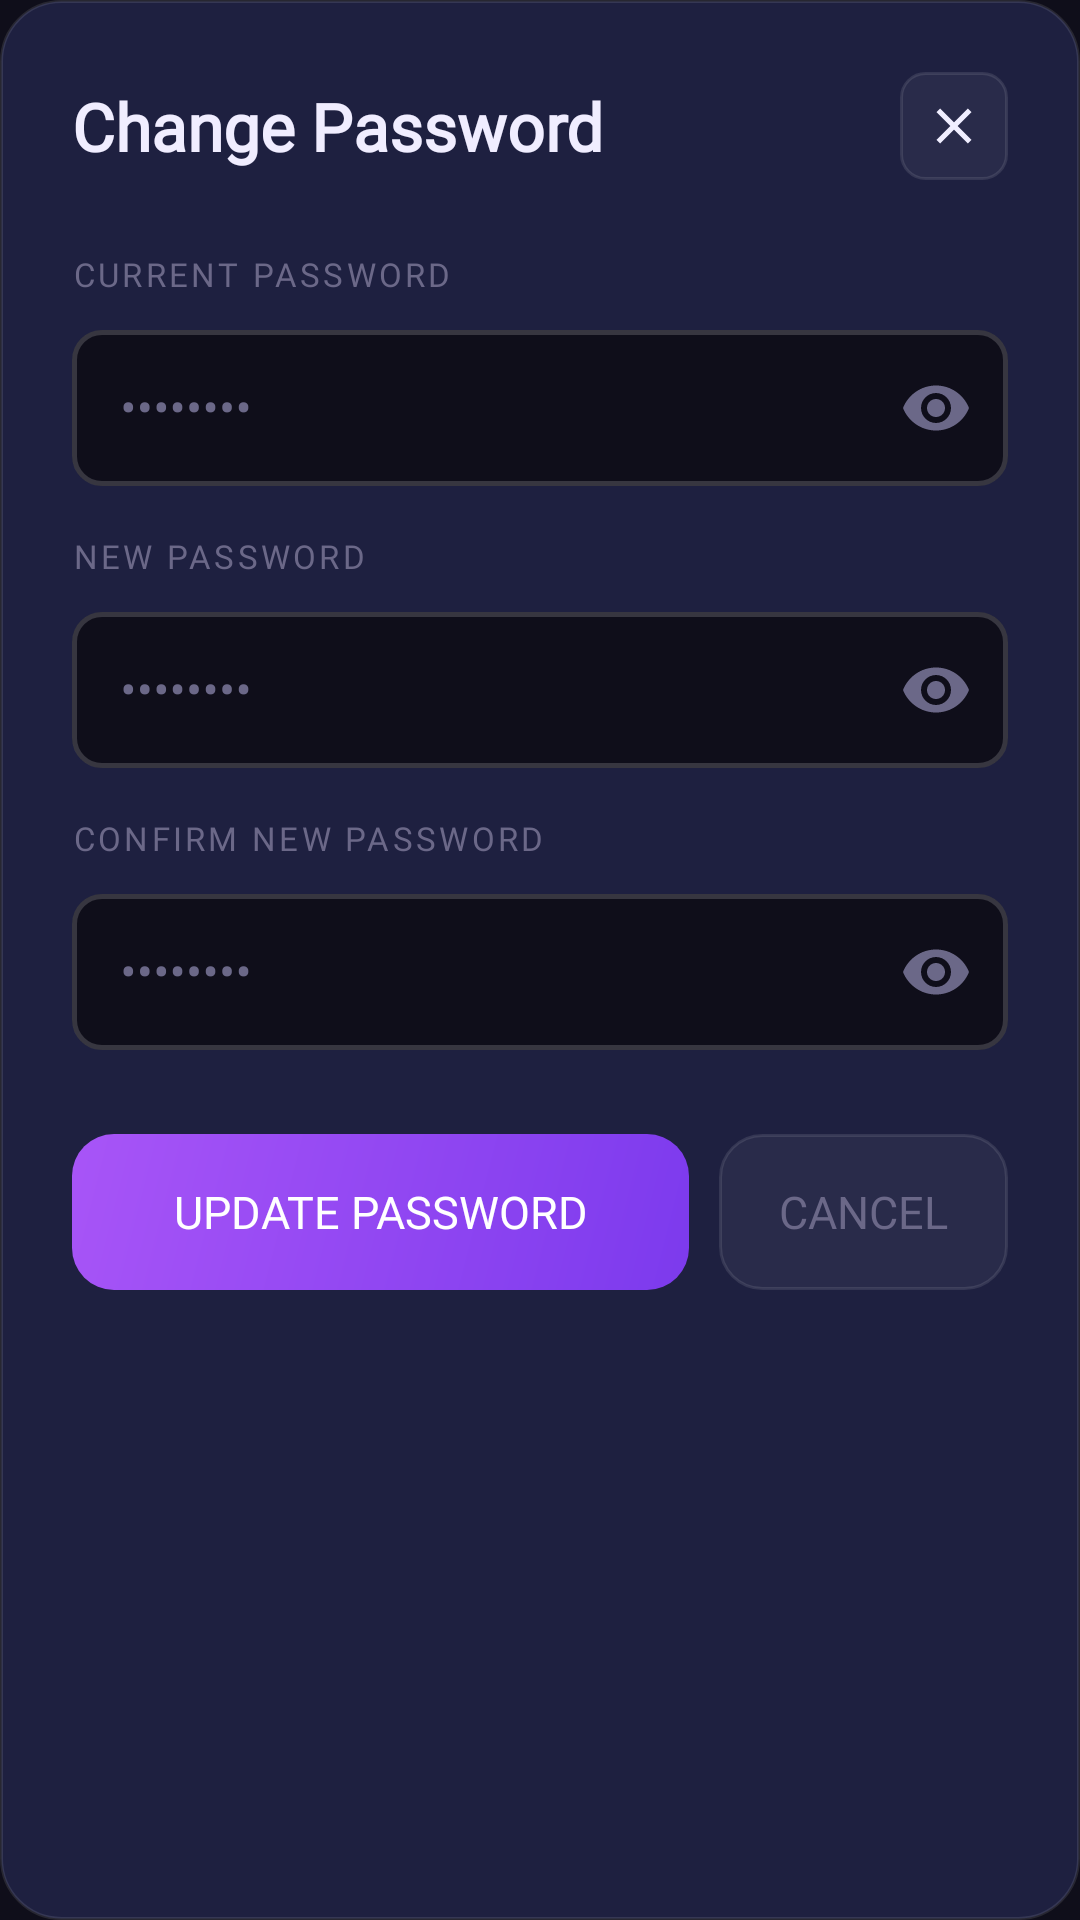

Icon bounding boxes for this 1080px×1920px phone screenshot, format (x1, y1, x2, y2):
close: (900, 72, 1008, 180)
